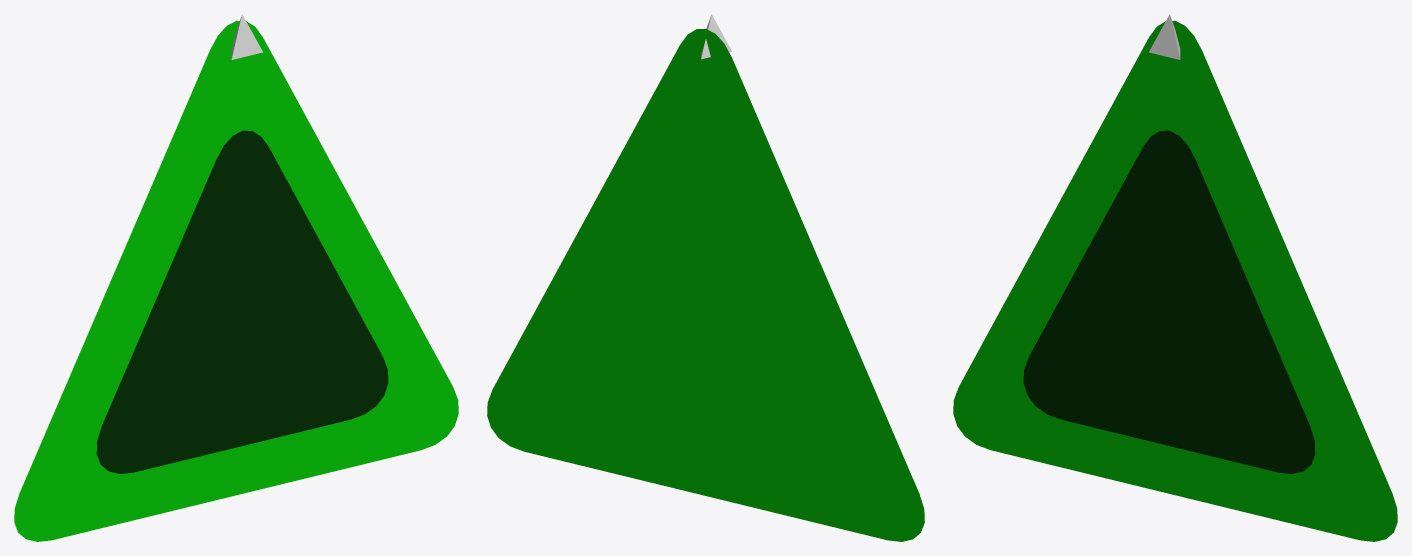
File: player-ship.glb
The picture shows the model from 3 angles, left to right: view 1: azimuth 30°, elevation 25°; view 2: azimuth 150°, elevation 25°; view 3: azimuth 330°, elevation 25°; orthographic projection.
Visible parts, largest first — view 1: ShipOutline, ShipHull, ForwardWeapon; view 2: ShipOutline; view 3: ShipOutline, ShipHull, ForwardWeapon.
Part boxes in pixels (x1=…): ShipOutline: x1=14, y1=20, x2=458, y2=541; ShipHull: x1=96, y1=130, x2=388, y2=473; ForwardWeapon: x1=231, y1=14, x2=262, y2=59; ShipOutline: x1=487, y1=29, x2=924, y2=541; ShipOutline: x1=953, y1=20, x2=1397, y2=541; ShipHull: x1=1023, y1=130, x2=1315, y2=473; ForwardWeapon: x1=1149, y1=14, x2=1180, y2=59.
Bounding box in the file's own units: 37.84 × 39.48 × 2.34.
